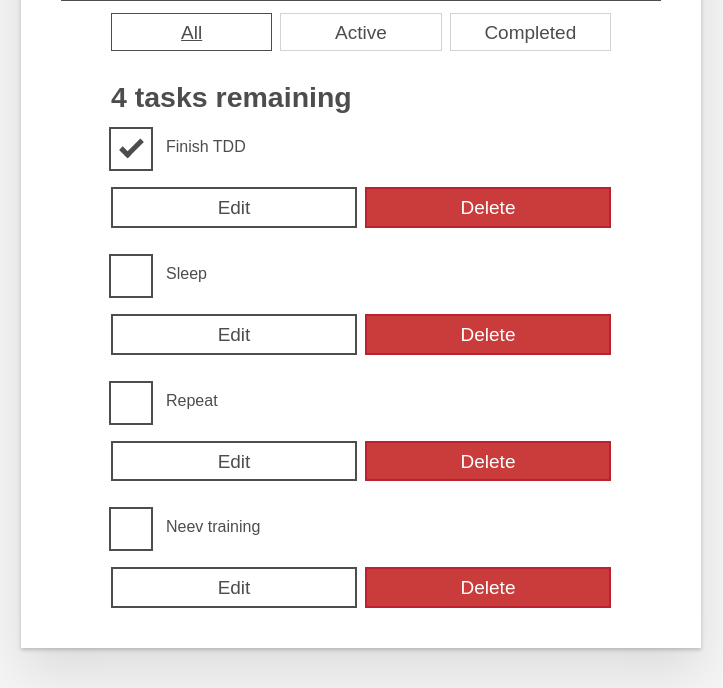
Test case: Todo App › Test six - delete an existing task
(page scrolled)
Click the button with class "btn__danger" below "Neev training" at (488, 588), box left=365, top=567, right=611, bottom=608
(page scrolled)
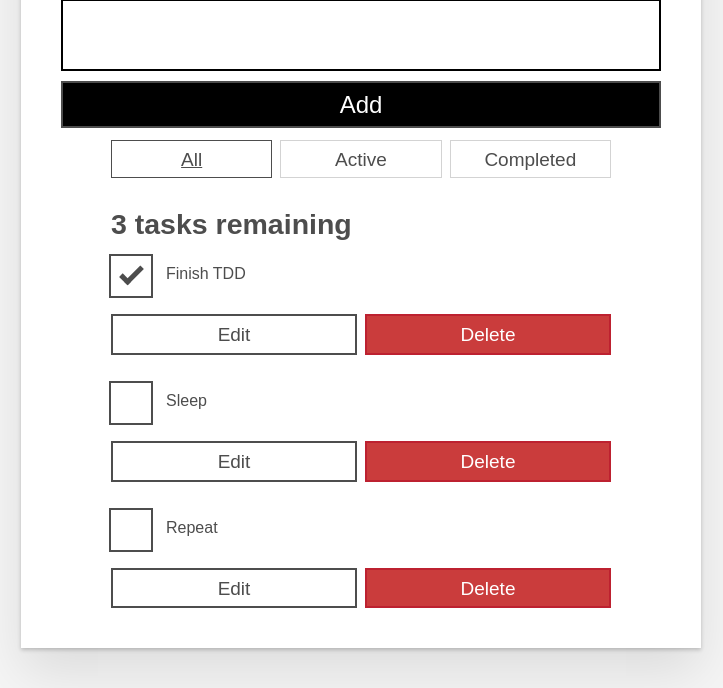
Result: the number of list items is 3 at left=111, top=256, right=611, bottom=355; left=111, top=383, right=611, bottom=482; left=111, top=510, right=611, bottom=608
Result: the checkbox "Neev training" is gone
